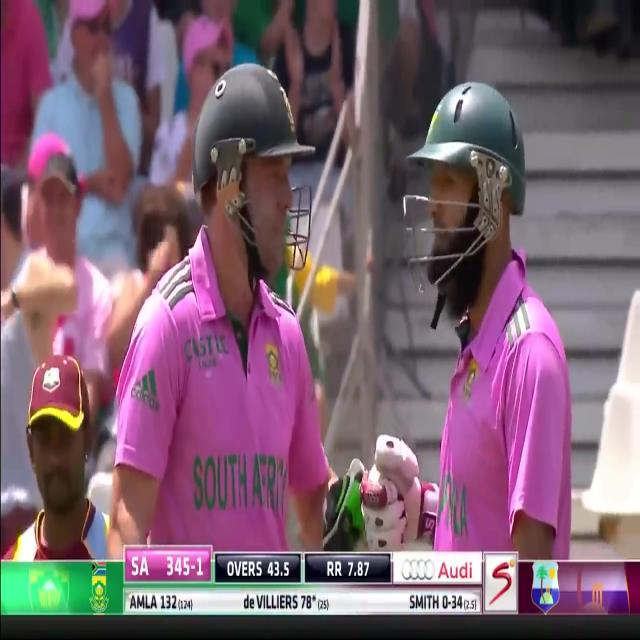Ball: (107, 69, 342, 553), (413, 84, 577, 560)
Fielder: (0, 338, 118, 562)
